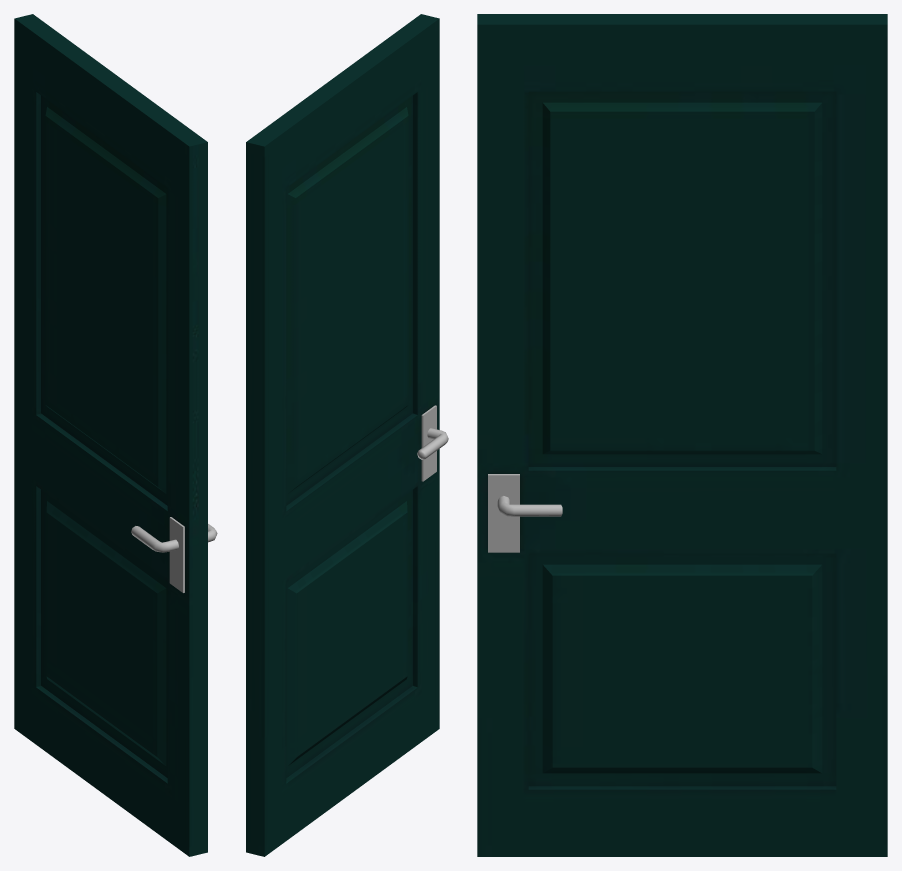
The model's file is doubleSidedDoor.gltf.
3 views of the same model, side by side, from view 1: azimuth 30°, elevation 25°; view 2: azimuth 150°, elevation 25°; view 3: azimuth 270°, elevation 25° (orthographic). The views are drawn at different scales.
Parts seen in each view (by area): view 1: doubleSidedDoor; view 2: doubleSidedDoor; view 3: doubleSidedDoor.
Part boxes in pixels (left/top/right/bottom): doubleSidedDoor: left=14, top=14, right=217, bottom=856; doubleSidedDoor: left=246, top=14, right=448, bottom=856; doubleSidedDoor: left=477, top=14, right=887, bottom=856.
Size of the model in its own units: 0.2636 by 2.79 by 1.25.
2 materials, 1 textured.
